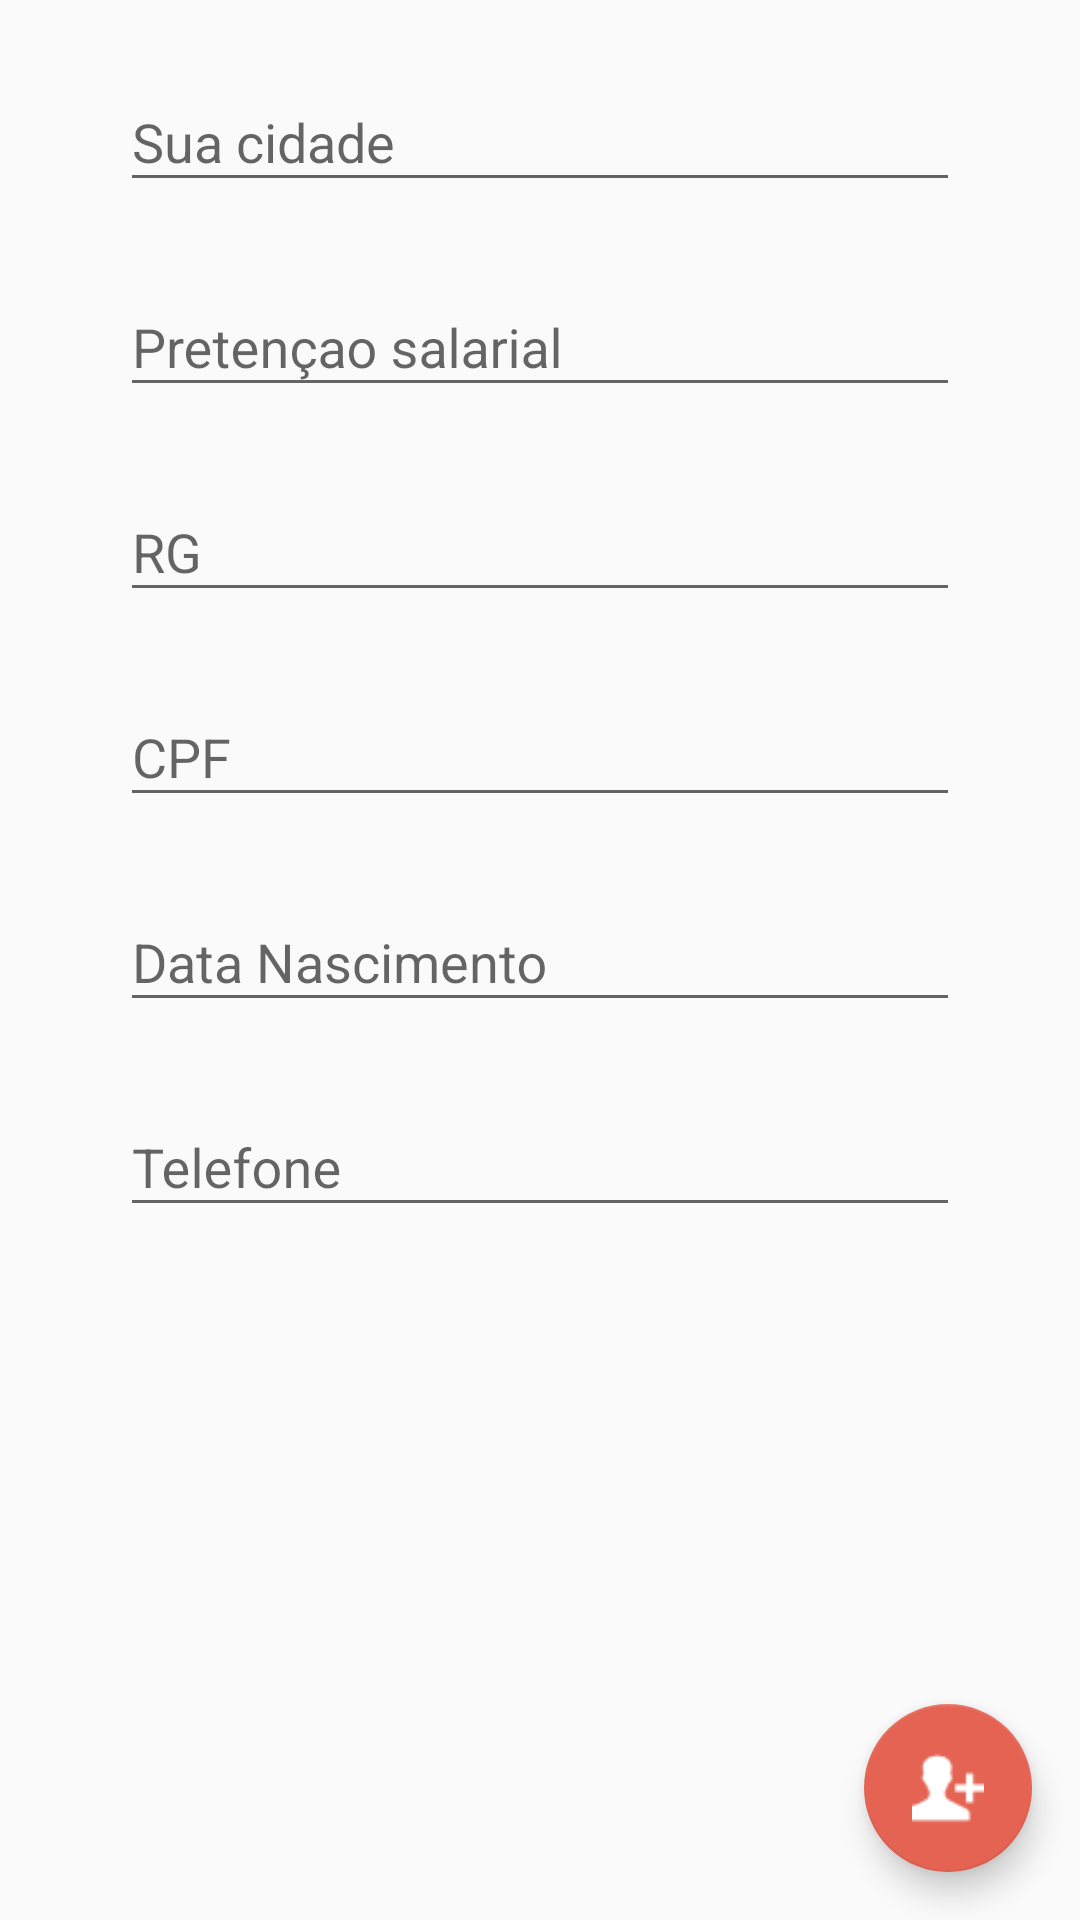

Icons on this 1080w x 1920h Android screen, each with the point to tap as [x,y]:
adduser: [948,1788]
